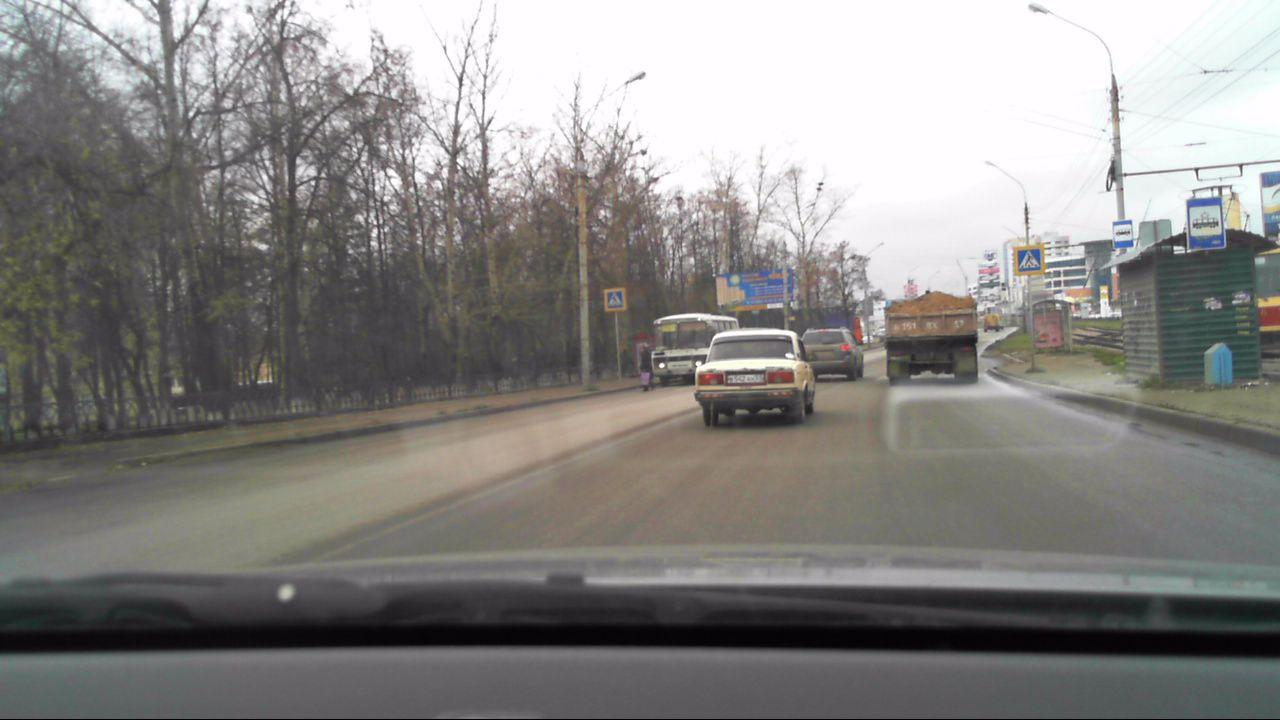5_16: (1112, 221, 1135, 249)
5_17: (1187, 195, 1225, 248)
5_19_1: (1016, 249, 1042, 273)
5_19_2: (603, 289, 624, 309)
